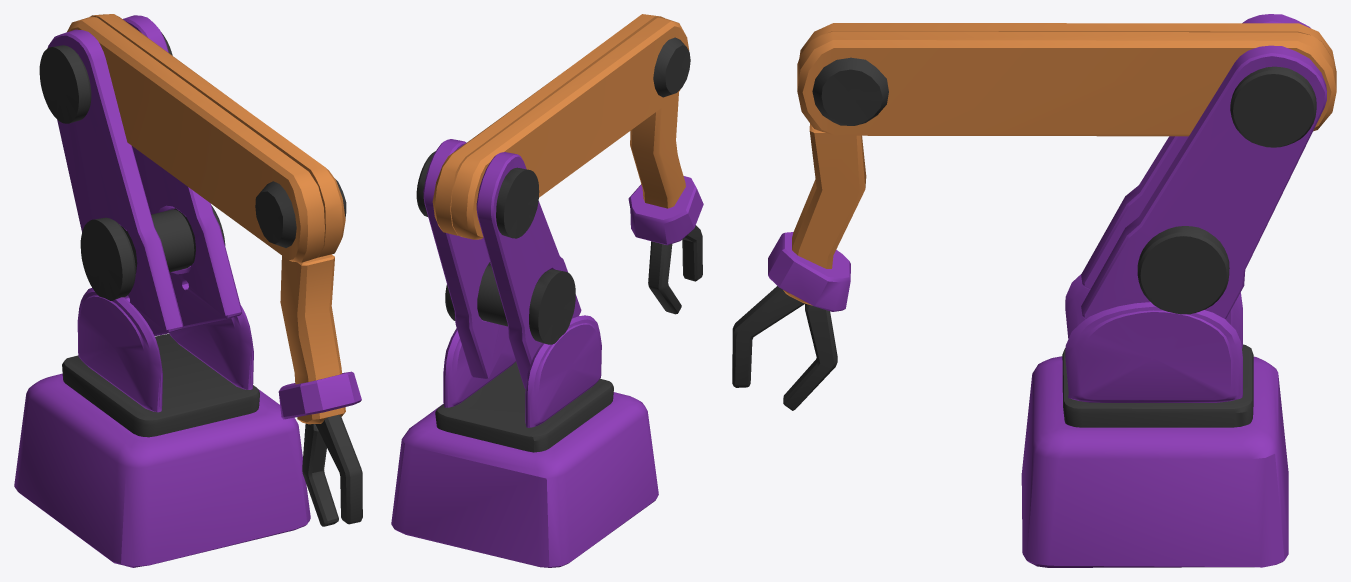
File: cranee.fbx
The picture shows the model from 3 angles, left to right: view 1: azimuth 30°, elevation 25°; view 2: azimuth 150°, elevation 25°; view 3: azimuth 270°, elevation 25°; orthographic projection. The views are drawn at different scales.
Visible parts, largest first — view 1: Cylinder.002, Cylinder.014, Cylinder.019, Cylinder.004, Cylinder.024, Cylinder.022, Cylinder.025, Cylinder.016, Cylinder.021, Cylinder.023, Cylinder.018, Cylinder.027 (+4 smaller); view 2: Cylinder.002, Cylinder.014, Cylinder.019, Cylinder.004, Cylinder.024, Cylinder.022, Cylinder.016, Cylinder.025, Cylinder.027, Cylinder.023, Cylinder.018, Cylinder.021 (+5 smaller); view 3: Cylinder.016, Cylinder.002, Cylinder.024, Cylinder.021, Cylinder.025, Cylinder.012, Cylinder.004, Cylinder.013, Cylinder.014, Cylinder.015, Cylinder.027, Cylinder.019 (+3 smaller).
Boxes of the visible parts, x1,y1,x2,y2 form: Cylinder.002: (14,373,310,567); Cylinder.014: (67,16,324,262); Cylinder.019: (47,29,183,336); Cylinder.004: (62,333,259,437); Cylinder.024: (123,15,241,328); Cylinder.022: (77,288,162,412); Cylinder.025: (280,254,345,424); Cylinder.016: (90,14,345,257); Cylinder.021: (169,305,253,389); Cylinder.023: (80,217,135,300); Cylinder.018: (39,45,91,123); Cylinder.027: (278,371,361,419); Cylinder.002: (391,392,658,567); Cylinder.014: (451,17,689,239); Cylinder.019: (476,152,581,388); Cylinder.004: (435,361,613,452); Cylinder.024: (423,139,508,378); Cylinder.022: (525,315,601,427); Cylinder.016: (432,14,664,235); Cylinder.025: (630,92,685,208); Cylinder.027: (628,176,703,245); Cylinder.023: (529,269,575,344); Cylinder.018: (496,167,539,238); Cylinder.021: (443,328,515,407); Cylinder.016: (797,31,1336,136); Cylinder.002: (1021,356,1288,567); Cylinder.024: (1081,45,1326,319); Cylinder.021: (1065,302,1242,402); Cylinder.025: (783,123,866,305); Cylinder.012: (1137,226,1229,314); Cylinder.004: (1062,344,1253,427); Cylinder.013: (1230,66,1316,147); Cylinder.014: (799,23,1336,79); Cylinder.015: (812,57,888,125); Cylinder.027: (768,232,850,311); Cylinder.019: (1081,14,1310,289).
Bounding box in the file's own units: 46.29 × 99.37 × 112.
